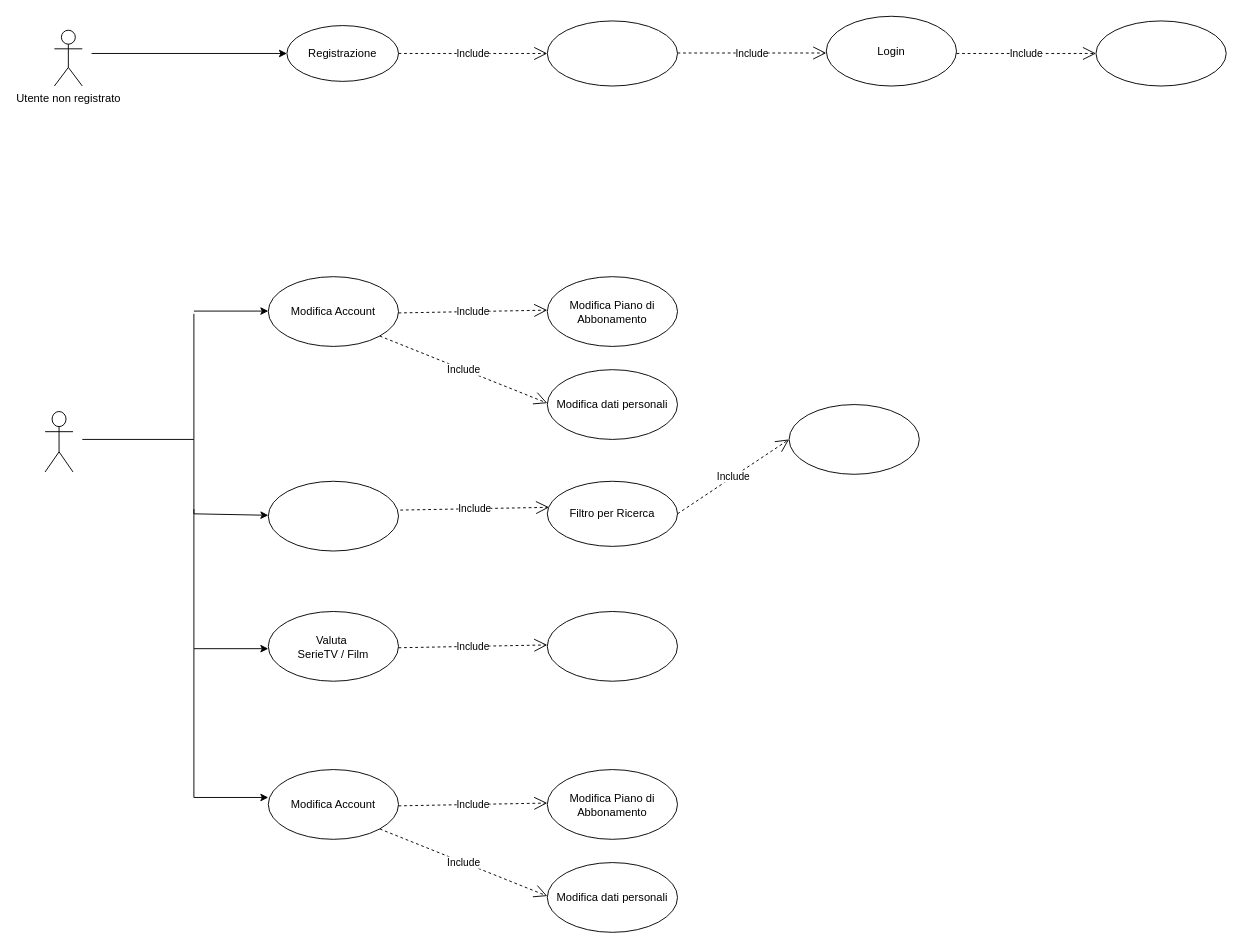
Some shapes in this 1242 by 949 pixel diagram are drawn without their labels. Here are the shapes that lost their labels. From the top down, the box of each, then its label:
(546, 20, 678, 86): Completamento Account
(1095, 20, 1226, 86): Scegli Utente
(44, 411, 73, 472): Utente Registrato
(788, 404, 919, 474): Visualizzazione Serie TV / Film
(267, 480, 399, 551): Sfoglia il Catalogo
(546, 611, 678, 681): Creazione di contenuti personalizzati
